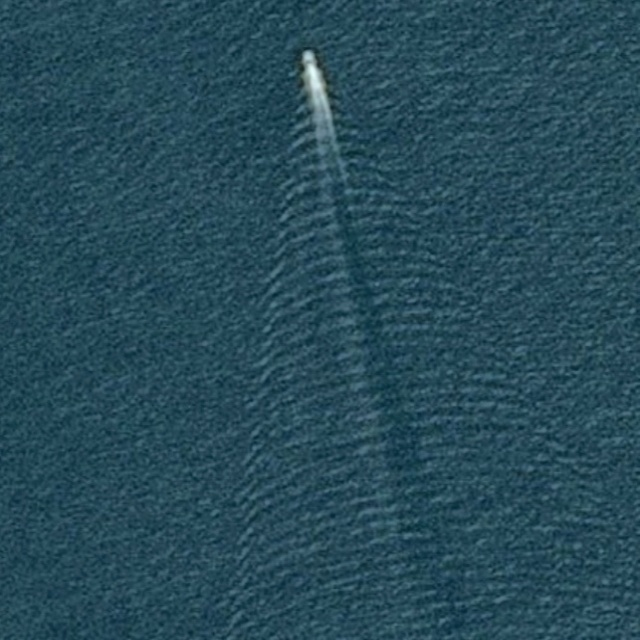wake: (203, 20, 464, 330)
